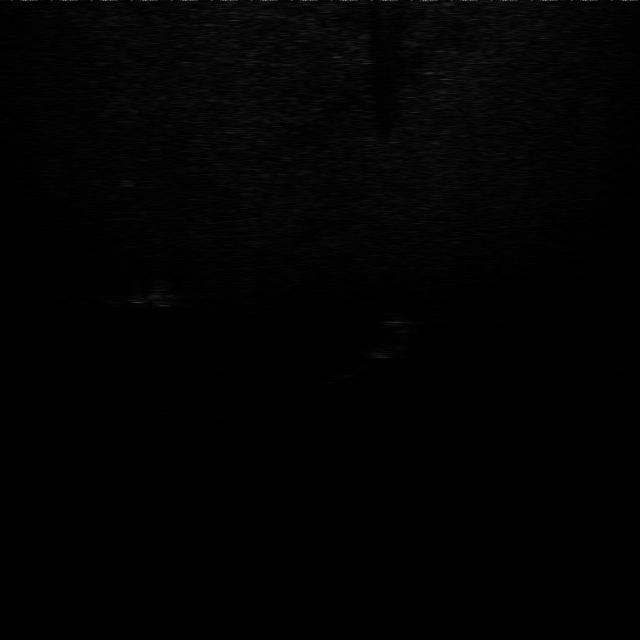circle cage: (120, 281, 186, 316)
tyre: (358, 310, 422, 362)
